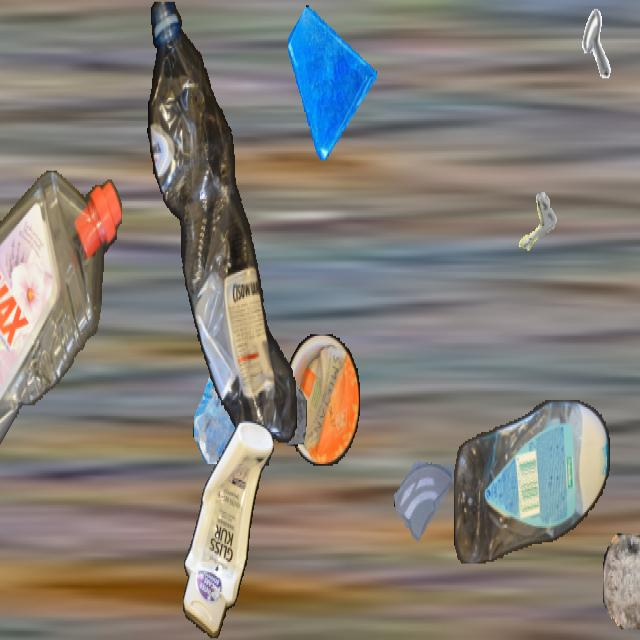glass: (288, 2, 376, 158), (193, 318, 275, 464), (241, 331, 307, 448), (394, 436, 456, 546)
metal: (550, 2, 612, 112), (501, 176, 561, 283)
plastic: (145, 2, 301, 464), (0, 171, 122, 469), (454, 400, 610, 564), (183, 422, 273, 638), (285, 334, 359, 466)
wood: (603, 534, 640, 630)
